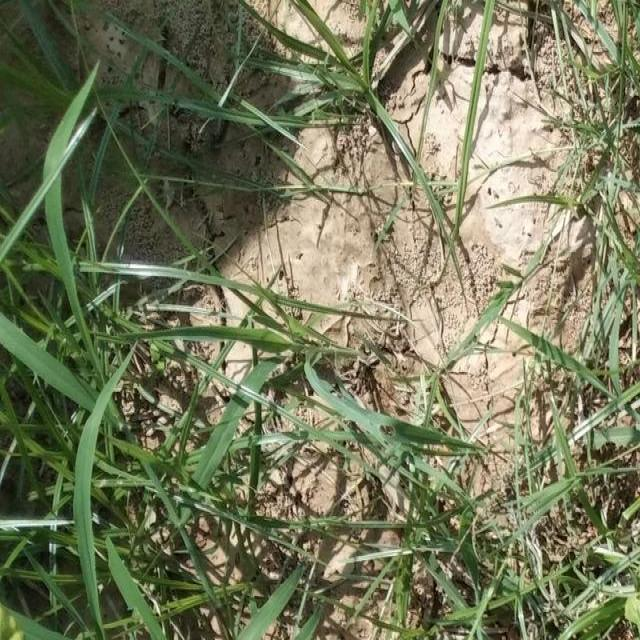weed: (2, 97, 147, 636), (580, 54, 640, 620), (256, 334, 419, 462)
